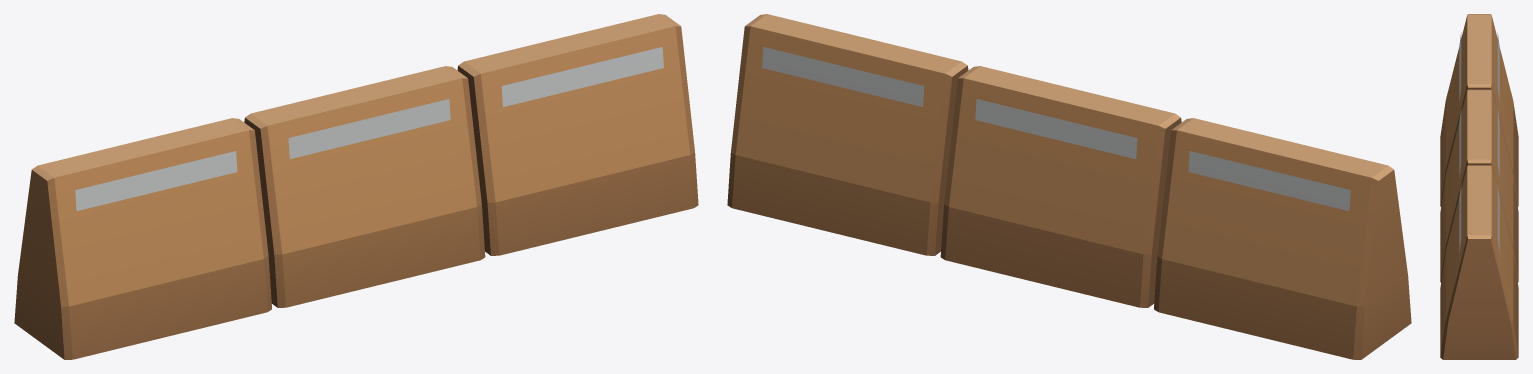
The model's file is barrier.lod2.glb.
3 renders of one model, left to right at view 1: azimuth 30°, elevation 25°; view 2: azimuth 150°, elevation 25°; view 3: azimuth 270°, elevation 25°, orthographic. The views are drawn at different scales.
Size of the model in its own units: 3.94 by 1 by 0.5801.
